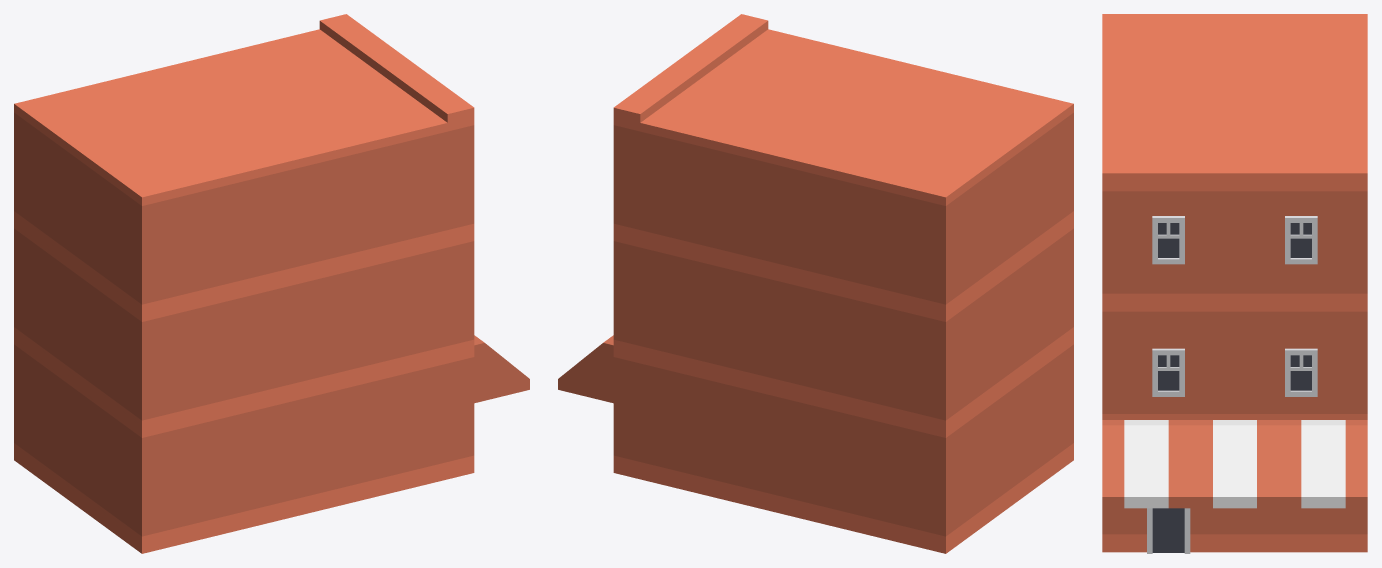
The model's file is morceauImmeubleEpicerie.fbx.
3 renders of one model, left to right at view 1: azimuth 30°, elevation 25°; view 2: azimuth 150°, elevation 25°; view 3: azimuth 270°, elevation 25°, orthographic. The views are drawn at different scales.
Parts seen in each view (by area): view 1: block_56, block_57, block_58, roof_flat_largeSide_52, roof_flat_largeSide_70, block_49, block_51, block_50, block_55, block_54, block_53, roof_flat_largeCenter_59 (+5 smaller); view 2: block_62, block_63, block_68, roof_flat_largeSide_70, roof_flat_largeSide_52, block_60, block_66, block_65, block_67, block_64, block_61, roof_flat_largeCenter_69 (+5 smaller); view 3: awning_straight_79, roof_flat_largeSide_52, roof_flat_largeSide_70, block_51, block_66, block_50, block_65, roof_flat_largeCenter_59, roof_flat_largeCenter_69, block_60, block_49, door_low_71 (+4 smaller).
Part boxes in pixels (x1=…): block_56: x1=78, y1=391, x2=252, y2=553; block_57: x1=78, y1=275, x2=252, y2=437; block_58: x1=78, y1=159, x2=252, y2=321; roof_flat_largeSide_52: x1=189, y1=61, x2=474, y2=178; roof_flat_largeSide_70: x1=125, y1=14, x2=409, y2=123; block_49: x1=363, y1=357, x2=474, y2=499; block_51: x1=363, y1=125, x2=474, y2=267; block_50: x1=363, y1=241, x2=474, y2=383; block_55: x1=253, y1=152, x2=363, y2=294; block_54: x1=253, y1=268, x2=363, y2=410; block_53: x1=253, y1=384, x2=363, y2=526; roof_flat_largeCenter_59: x1=78, y1=123, x2=252, y2=205; block_62: x1=835, y1=391, x2=1009, y2=553; block_63: x1=835, y1=275, x2=1009, y2=437; block_68: x1=835, y1=159, x2=1009, y2=321; roof_flat_largeSide_70: x1=613, y1=61, x2=898, y2=178; roof_flat_largeSide_52: x1=678, y1=14, x2=962, y2=123; block_60: x1=613, y1=357, x2=724, y2=499; block_66: x1=613, y1=125, x2=724, y2=267; block_65: x1=613, y1=241, x2=724, y2=383; block_67: x1=724, y1=152, x2=834, y2=294; block_64: x1=724, y1=268, x2=834, y2=410; block_61: x1=724, y1=384, x2=834, y2=526; roof_flat_largeCenter_69: x1=835, y1=123, x2=1009, y2=205; awning_straight_79: x1=1102, y1=420, x2=1367, y2=508; roof_flat_largeSide_52: x1=1102, y1=70, x2=1234, y2=191; roof_flat_largeSide_70: x1=1235, y1=70, x2=1367, y2=191; block_51: x1=1102, y1=191, x2=1234, y2=311; block_66: x1=1235, y1=191, x2=1367, y2=311; block_50: x1=1102, y1=311, x2=1234, y2=419; block_65: x1=1235, y1=311, x2=1367, y2=419; roof_flat_largeCenter_59: x1=1102, y1=14, x2=1234, y2=69; roof_flat_largeCenter_69: x1=1235, y1=14, x2=1367, y2=69; block_60: x1=1235, y1=508, x2=1367, y2=552; block_49: x1=1102, y1=508, x2=1234, y2=552; door_low_71: x1=1147, y1=508, x2=1190, y2=553.
Size of the model in its own units: 35 by 31.5 by 20.
